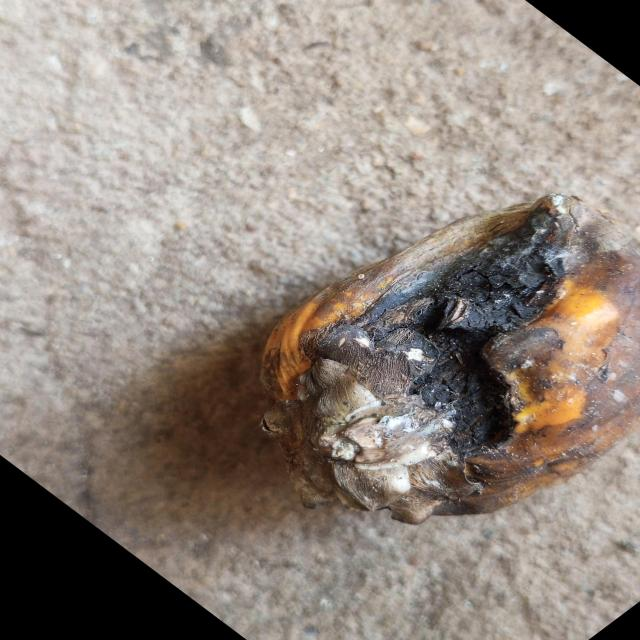damaged: (264, 199, 640, 525)
